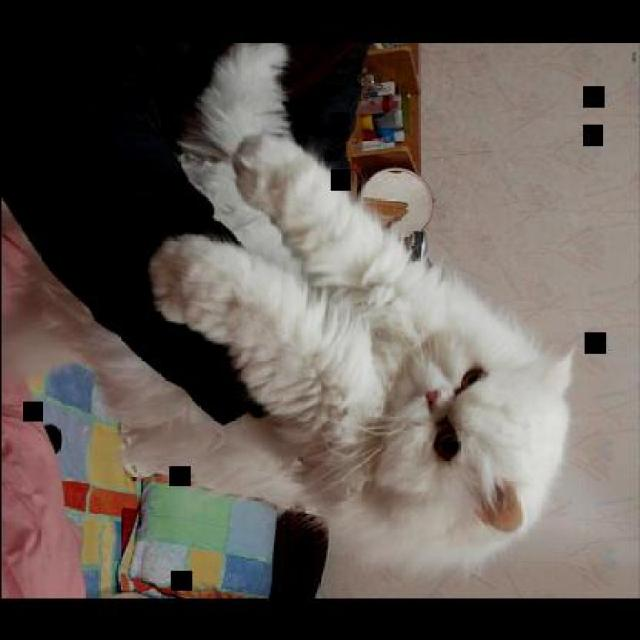unauthorized: (132, 40, 576, 588)
